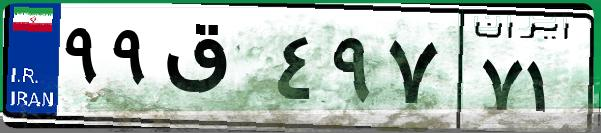1: (525, 38, 570, 115)
4: (270, 28, 330, 110)
7: (385, 28, 445, 110), (475, 38, 525, 113)
9: (330, 28, 385, 110), (57, 26, 110, 100), (110, 28, 158, 98)
ق: (158, 20, 270, 120)
